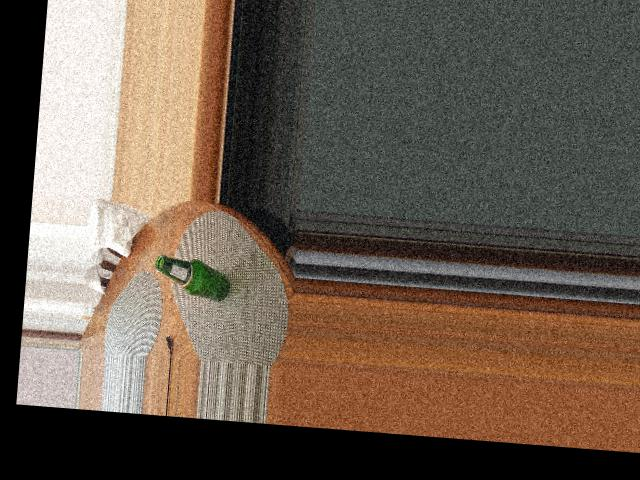beer: (154, 257, 231, 302)
